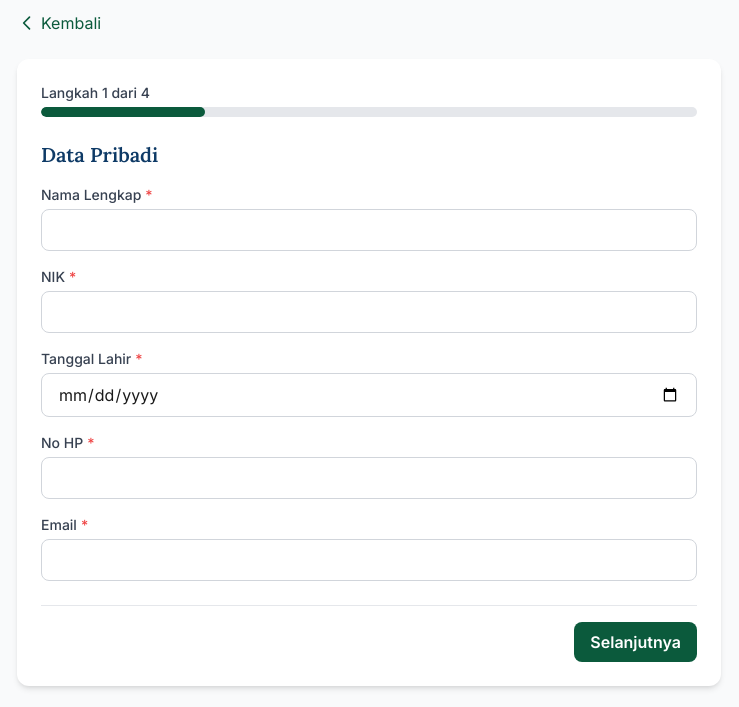
Scenario: EnrollmentPage › Step 1: Data Pribadi › advances to step 2 when all fields are filled
Type "John Doe" into the field labelled "Nama Lengkap*" at (369,230), box top-left (41, 209), bottom-right (697, 251)
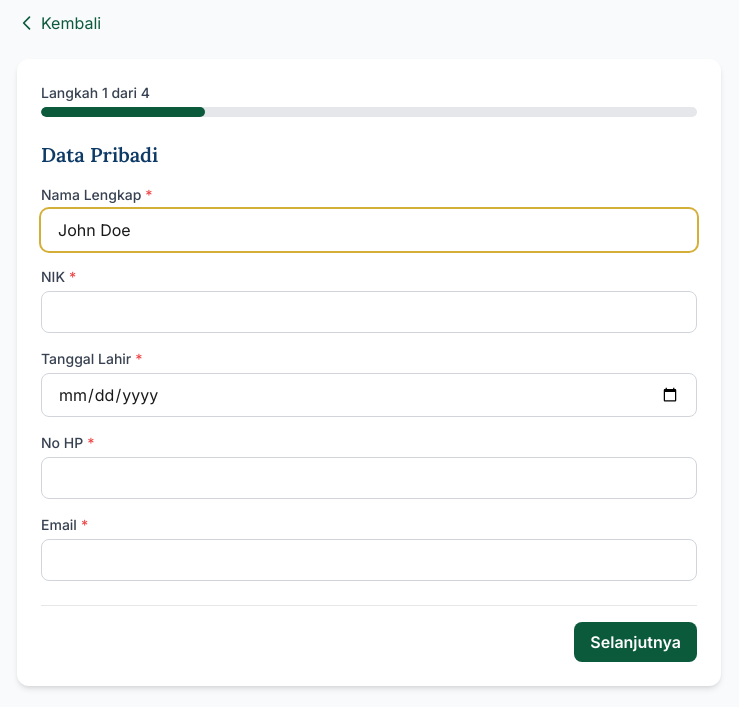
Type "1234567890123456" into the field labelled "NIK*" at (369,312), box top-left (41, 291), bottom-right (697, 333)
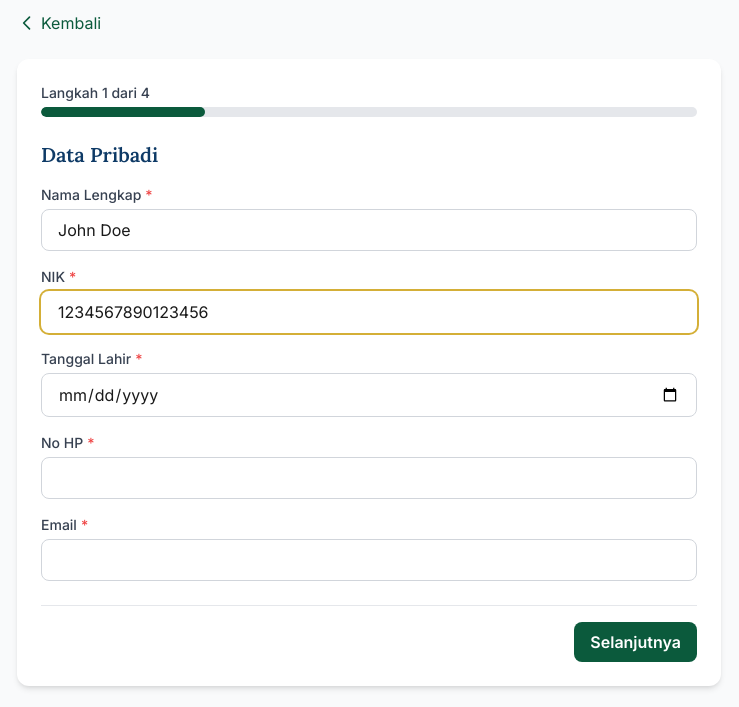
Type "1990-01-01" into the date field labelled "Tanggal Lahir*" at (369,395), box top-left (41, 373), bottom-right (697, 417)
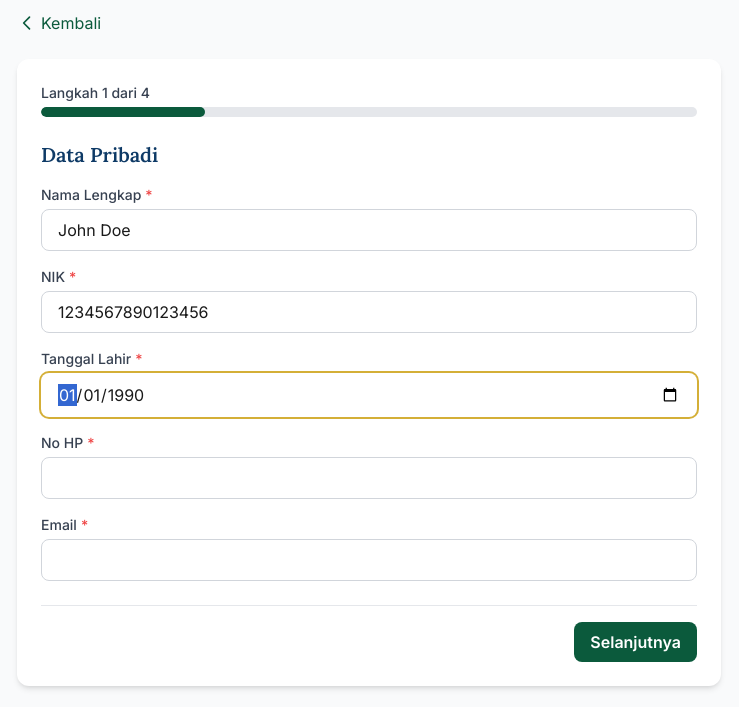
Type "081234567890" into the field labelled "No HP*" at (369,478), box top-left (41, 457), bottom-right (697, 499)
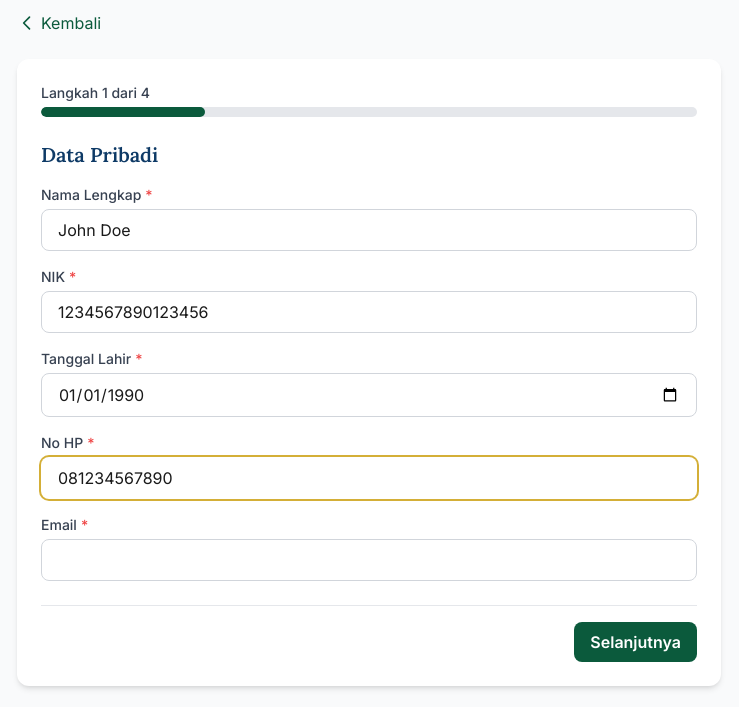
Type "john@test.com" into the field labelled "Email*" at (369,560), box top-left (41, 539), bottom-right (697, 581)
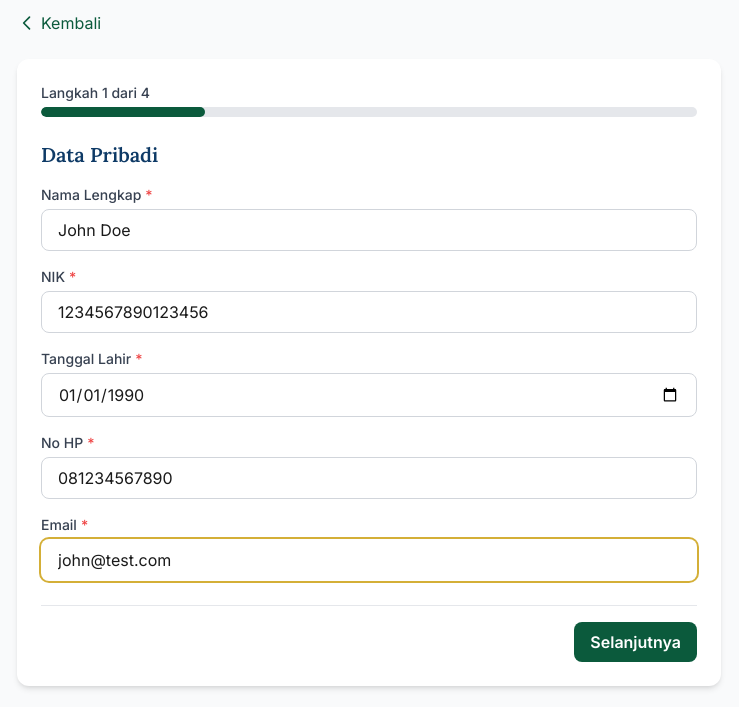
Click the button "Selanjutnya" at (636,642), box top-left (574, 622), bottom-right (697, 662)
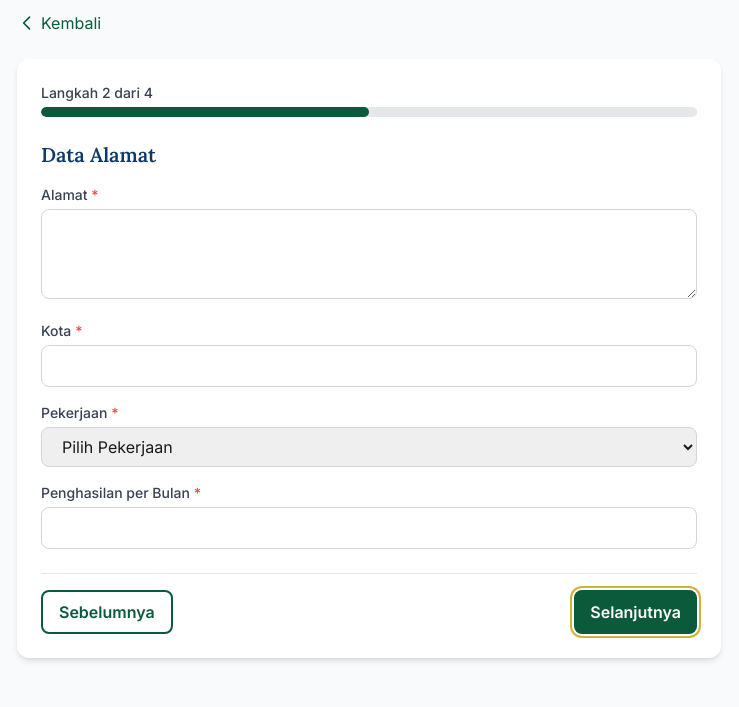
Result: the heading "Data Alamat" is shown at top-left (41, 142), bottom-right (156, 167)
